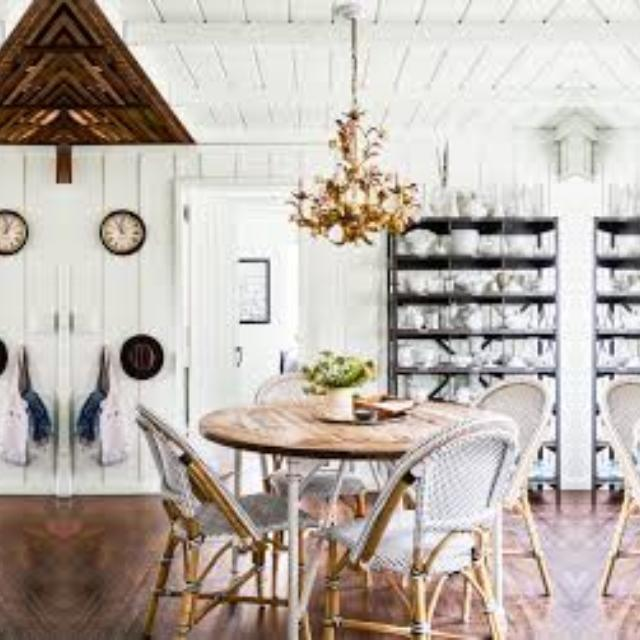obstacle: (336, 410, 524, 622), (627, 410, 640, 621)
